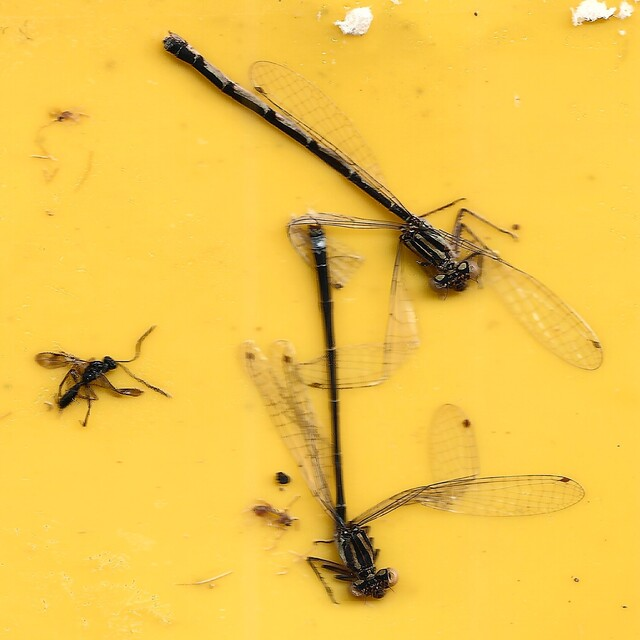Hymenoptera: (35, 325, 171, 429)
Nematocera: (249, 501, 299, 535)
Odonata: (162, 31, 605, 372), (237, 221, 585, 609)
